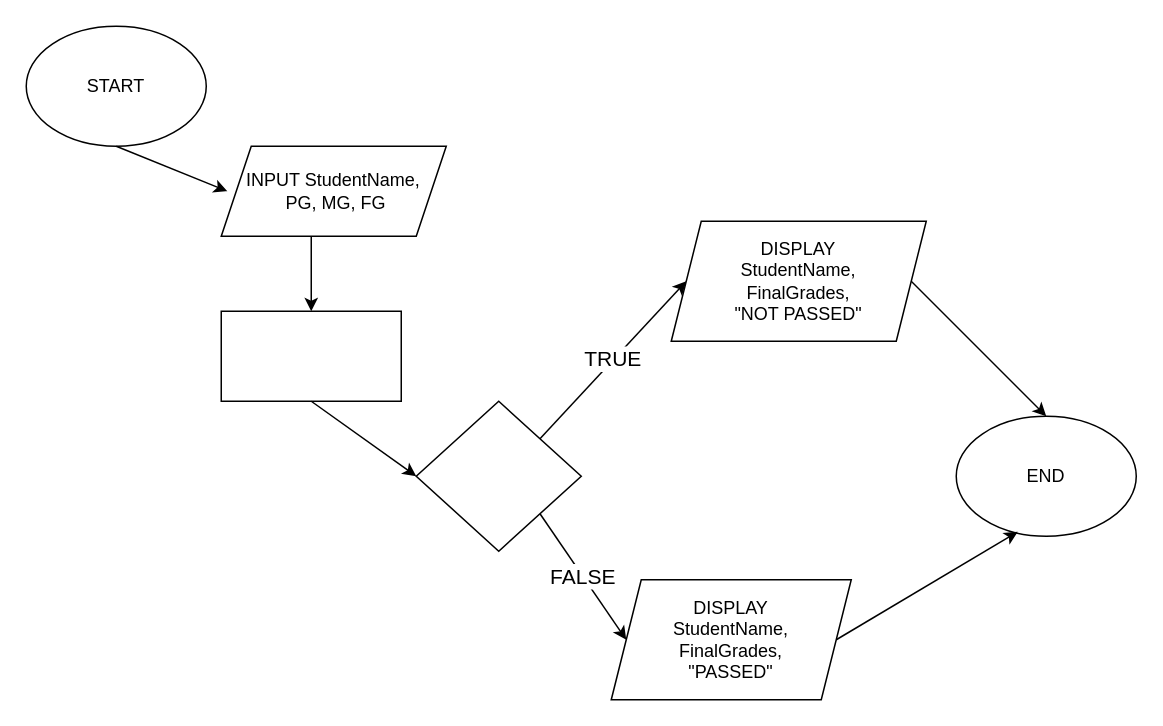
The diagram is 1163 pixels wide and 726 high, and some of its shapes have lost their labels. The centre of each missing label's shape, as x and y in pixels:
CALCULATE FinalGrades = PG + MG + FG: (x=310, y=355)
FinalGrades <= 74: (x=498, y=475)
